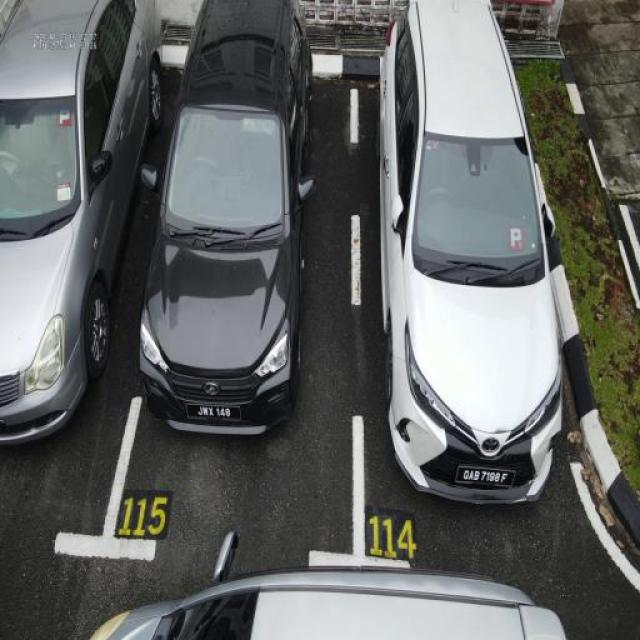Legalparking: (380, 0, 561, 501), (140, 0, 315, 432), (0, 0, 161, 442)
illegalparking: (91, 531, 565, 639)
